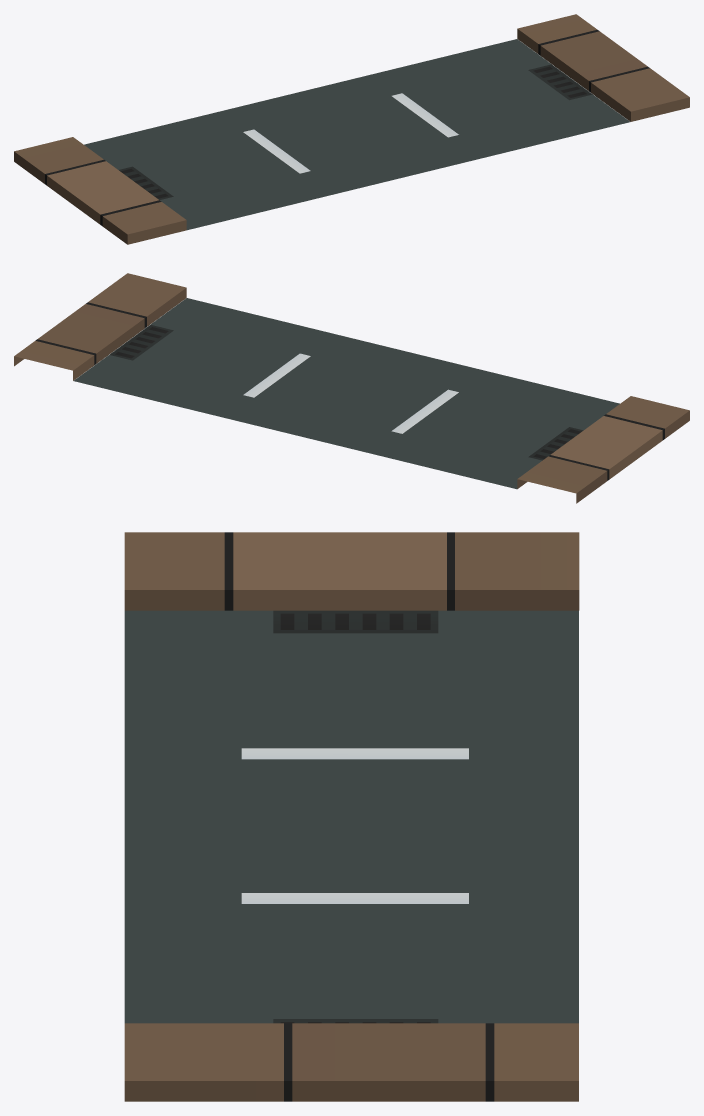
Rendered from Road_1_306.fbx.
The picture shows the model from 3 angles, top to bottom: view 1: azimuth 30°, elevation 25°; view 2: azimuth 150°, elevation 25°; view 3: azimuth 270°, elevation 25°; orthographic projection. The views are drawn at different scales.
Parts seen in each view (by area): view 1: Road_1_306; view 2: Road_1_306; view 3: Road_1_306.
Boxes of the visible parts, bbox=[...] form: Road_1_306: bbox=[14, 14, 689, 244]; Road_1_306: bbox=[14, 273, 689, 503]; Road_1_306: bbox=[124, 532, 579, 1101].
Bounding box in the file's own units: 1712 × 30 × 599.
